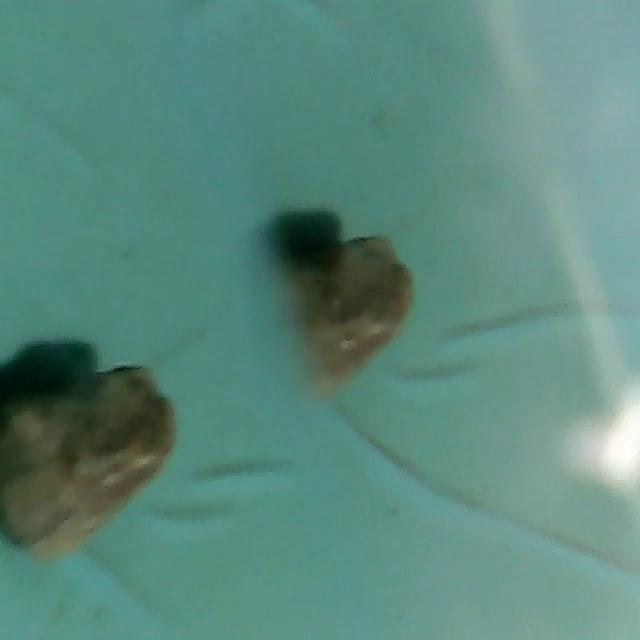rock: (0, 348, 181, 561), (273, 222, 425, 398)
